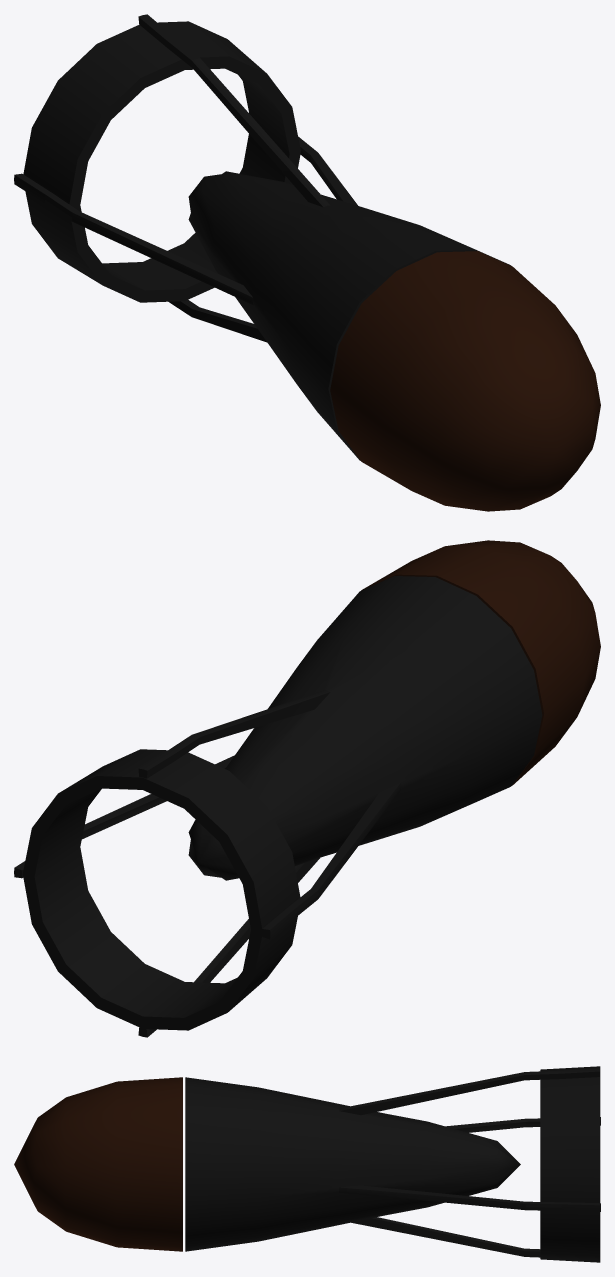
The model's file is dropBomb.fbx.
The picture shows the model from 3 angles, top to bottom: view 1: azimuth 30°, elevation 25°; view 2: azimuth 150°, elevation 25°; view 3: azimuth 270°, elevation 25°; orthographic projection. The views are drawn at different scales.
Parts seen in each view (by area): view 1: Object002, Object003; view 2: Object002, Object003; view 3: Object002, Object003.
Part boxes in pixels (box(x1,y1,x2,y2)): Object002: box(14, 14, 511, 460); Object003: box(330, 251, 600, 511); Object002: box(14, 576, 542, 1037); Object003: box(361, 540, 600, 785); Object002: box(185, 1066, 600, 1262); Object003: box(14, 1077, 182, 1251).
Size of the model in its own units: 18.14 by 18.09 by 50.72.
